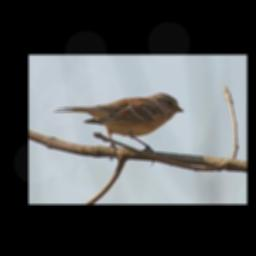Sparrow: (51, 91, 185, 165)
